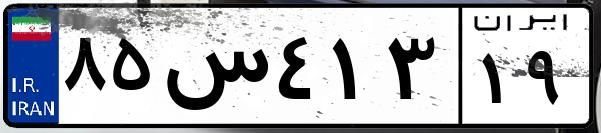1: (330, 28, 385, 110), (475, 38, 525, 113)
3: (385, 28, 445, 110)
4: (270, 28, 330, 110)
5: (110, 28, 158, 98)
8: (57, 26, 110, 100)
9: (525, 38, 570, 115)
س: (158, 20, 270, 120)
